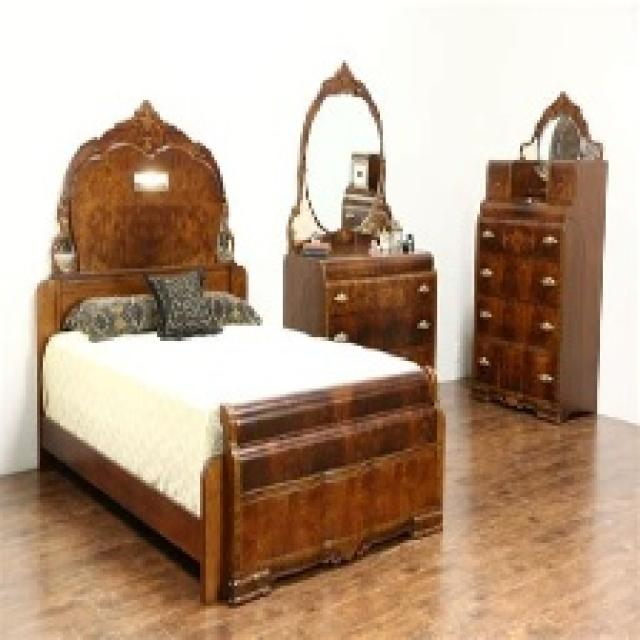Bed: (31, 97, 446, 606)
